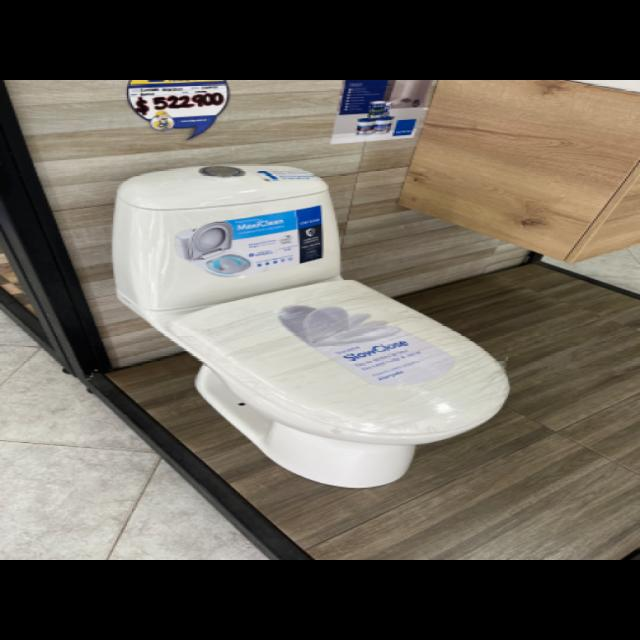toilet: (110, 162, 510, 489)
